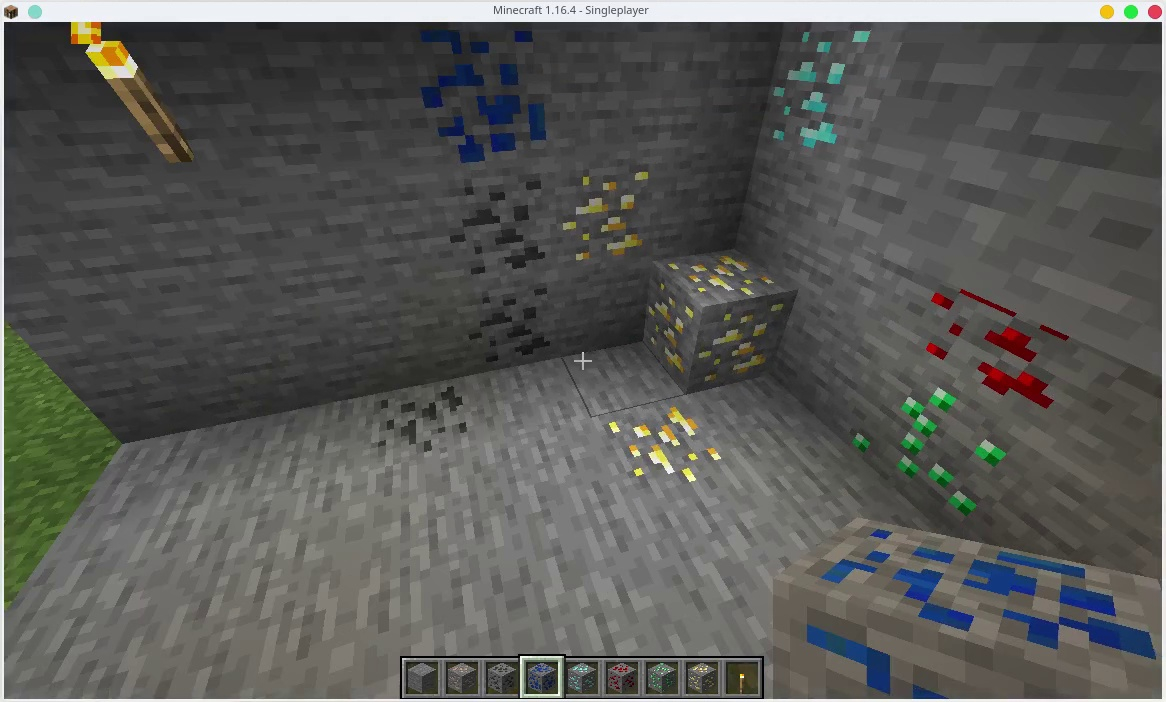gold: (656, 255, 788, 392), (610, 407, 737, 488), (560, 164, 650, 262), (682, 660, 718, 695)
